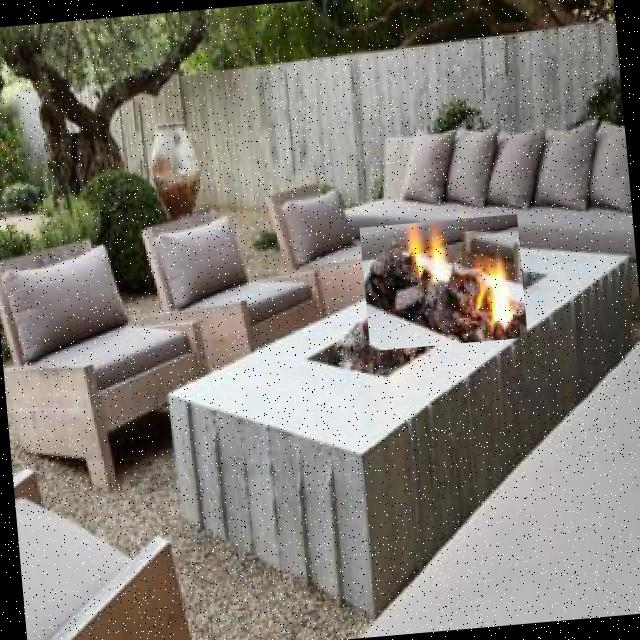fire: (359, 214, 527, 350)
